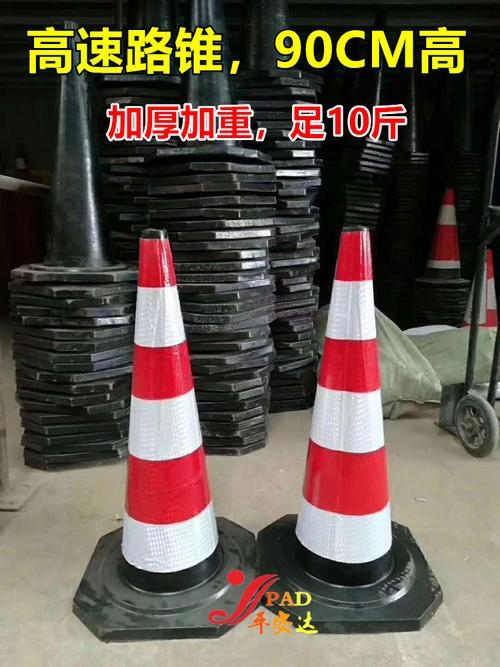cone_barrel: (109, 235, 228, 603), (285, 240, 406, 593), (39, 72, 120, 269), (418, 185, 465, 286)
